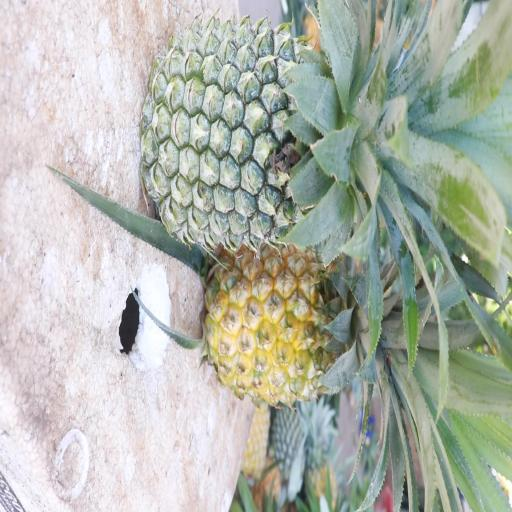Pineapple - v8 v1: (207, 244, 461, 496)
